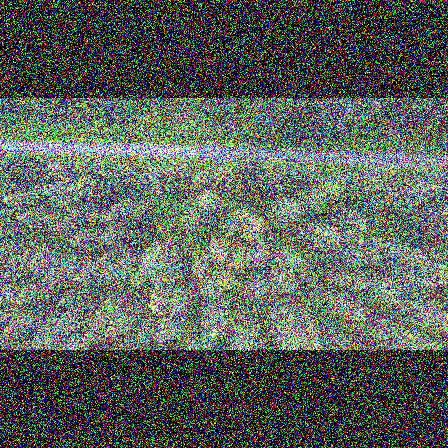Dead: (44, 159, 75, 182)
Sick: (242, 243, 271, 272), (245, 274, 270, 302), (196, 278, 224, 299), (336, 206, 359, 231), (49, 216, 66, 234)
